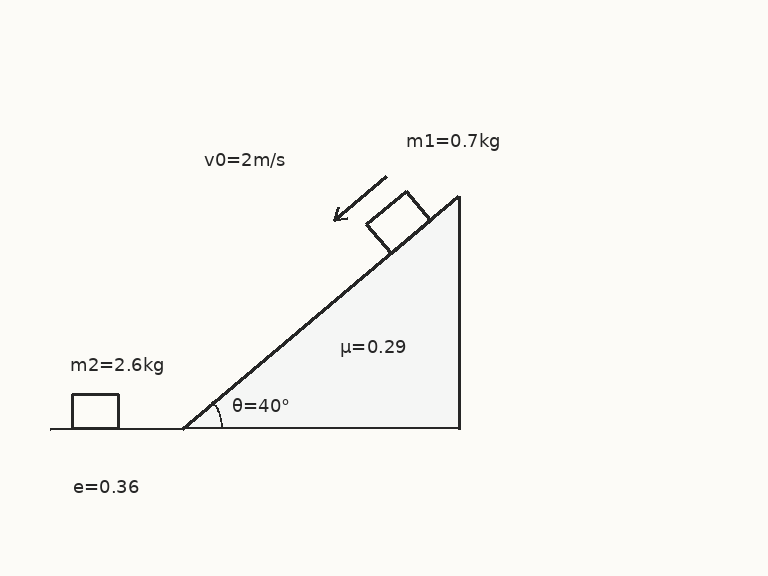block: (365, 189, 432, 255), (70, 392, 120, 430)
ramp: (180, 194, 461, 430)
